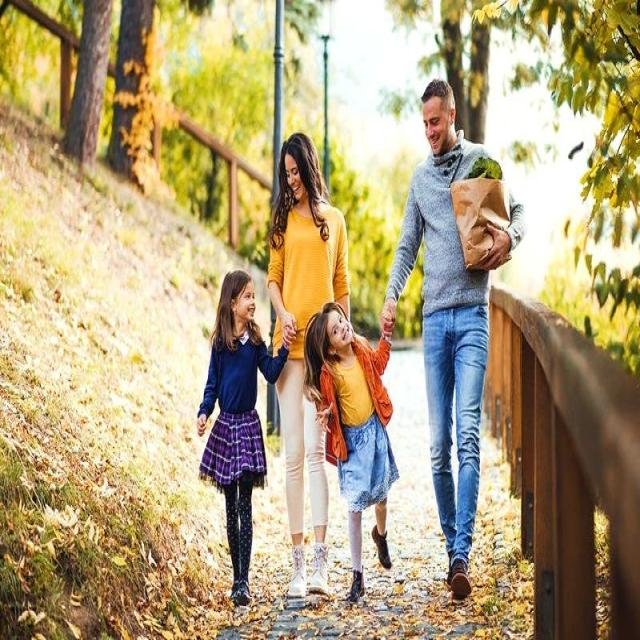Person: (384, 77, 525, 598), (269, 131, 349, 598), (197, 271, 285, 605), (306, 306, 399, 604)
